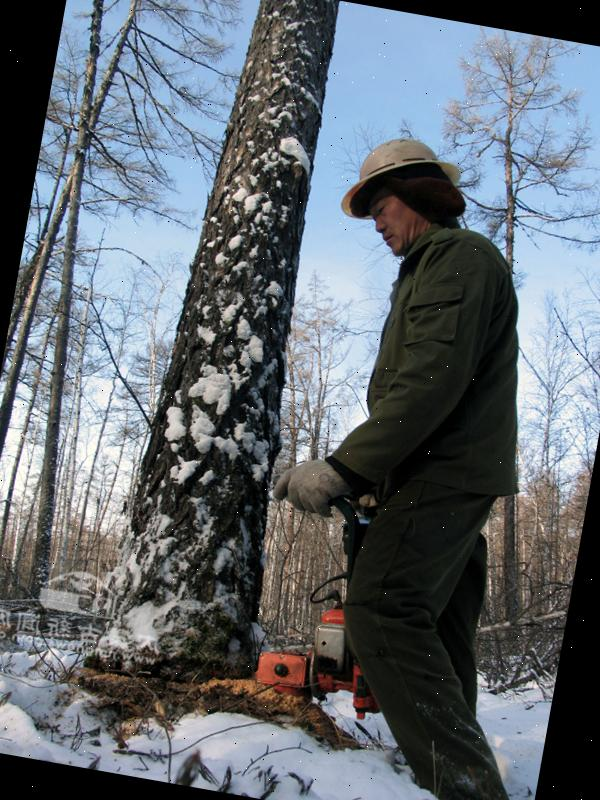helmet: (330, 122, 473, 239)
